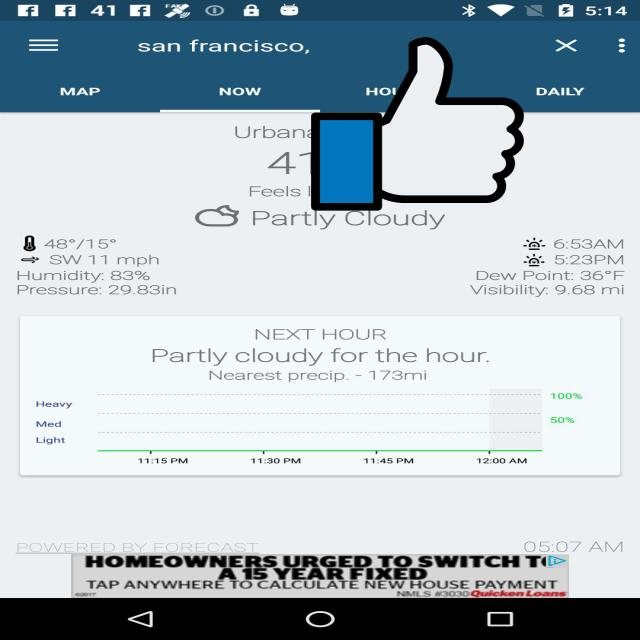privacy zuckering: (311, 34, 524, 215)
